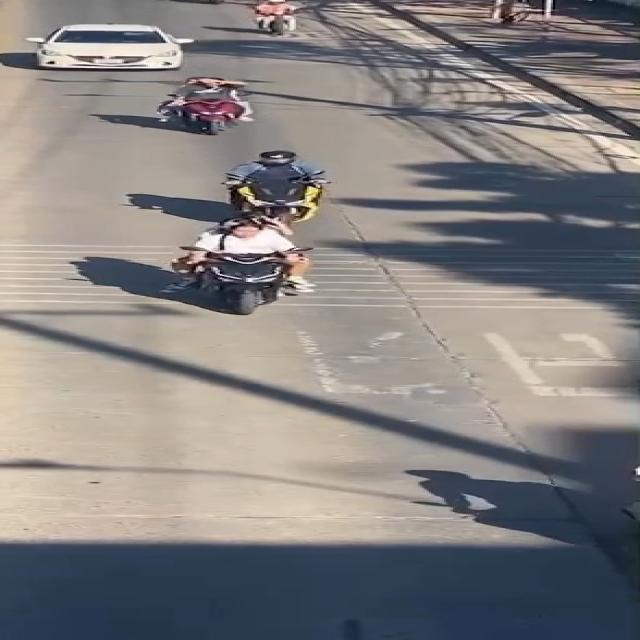car: (0, 18, 196, 77)
